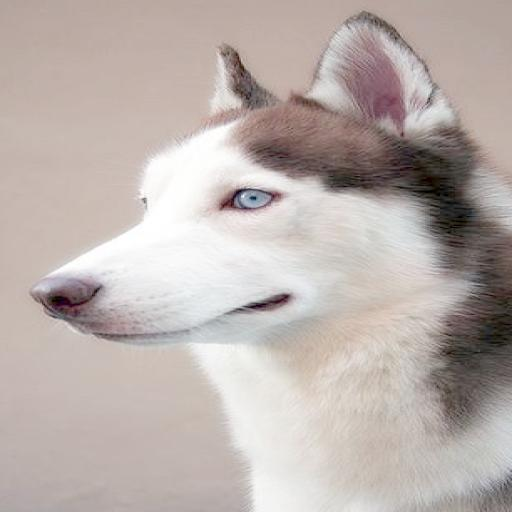dog_face: (26, 40, 439, 374)
